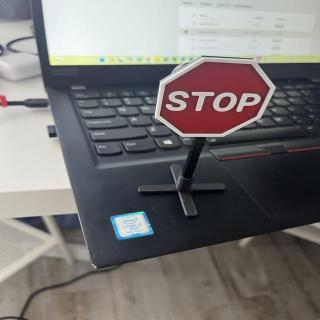sign_stop: (155, 57, 278, 139)
